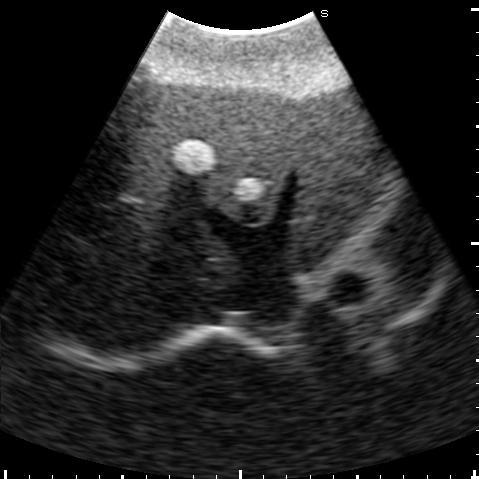S2: (286, 87, 391, 274)
S4: (114, 81, 299, 225)
S7: (41, 256, 175, 351)
S8: (70, 147, 234, 292)
Tumor: (170, 139, 216, 174), (233, 178, 265, 200)
